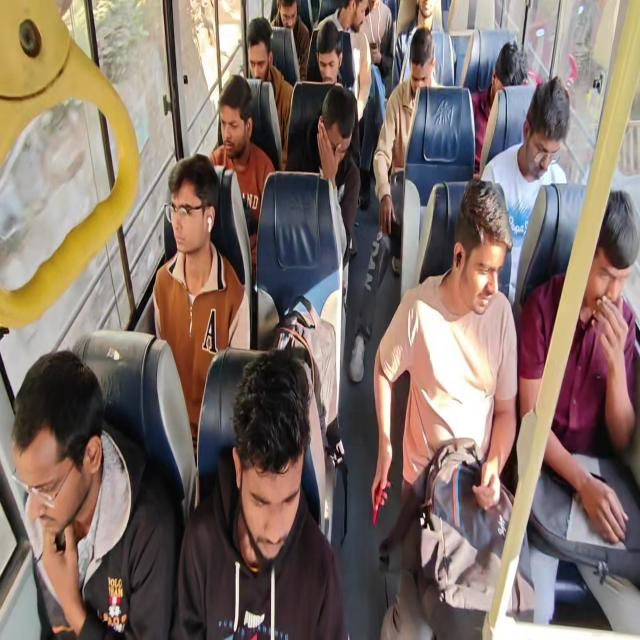person: (8, 371, 105, 516), (240, 365, 300, 585), (158, 171, 221, 269), (583, 200, 636, 315), (312, 105, 354, 205), (212, 77, 258, 166), (464, 212, 503, 295), (530, 88, 557, 186), (485, 43, 525, 101), (310, 24, 347, 85), (242, 29, 272, 82), (410, 34, 433, 92), (339, 0, 368, 31), (276, 0, 299, 36), (410, 0, 443, 18)
